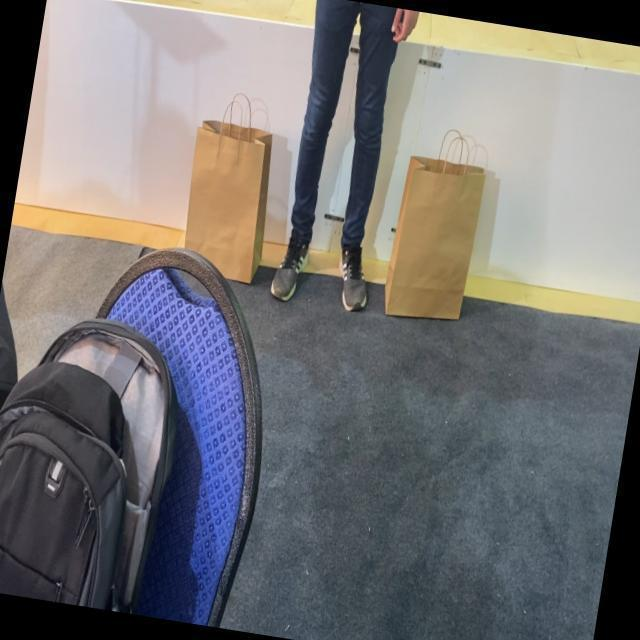Paper_Bag: (381, 122, 492, 328), (174, 87, 287, 286)
